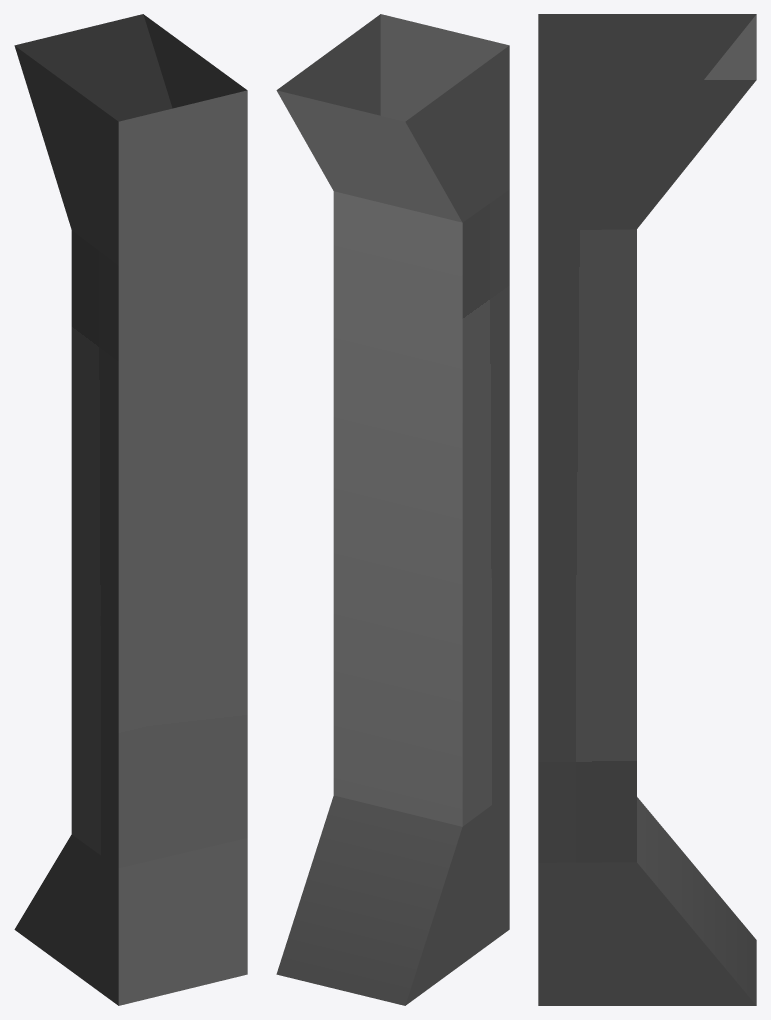
File: stat_bridge1.glb
3 views of the same model, side by side, from view 1: azimuth 30°, elevation 25°; view 2: azimuth 150°, elevation 25°; view 3: azimuth 270°, elevation 25° (orthographic). The views are drawn at different scales.
Visible parts, largest first — view 1: group_13; view 2: group_13; view 3: group_13.
Part boxes in pixels (box(x1,y1,x2,y2)): group_13: box(14, 14, 247, 1005); group_13: box(276, 14, 509, 1005); group_13: box(538, 14, 756, 1005).
Bounding box in the file's own units: 2498 × 16383 × 3502.
Materials: 1 (1 with a texture image).
